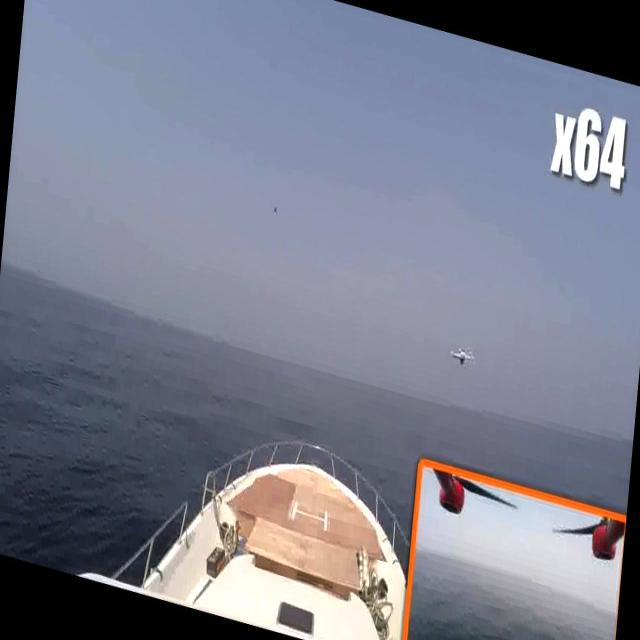drone: (448, 342, 477, 372)
